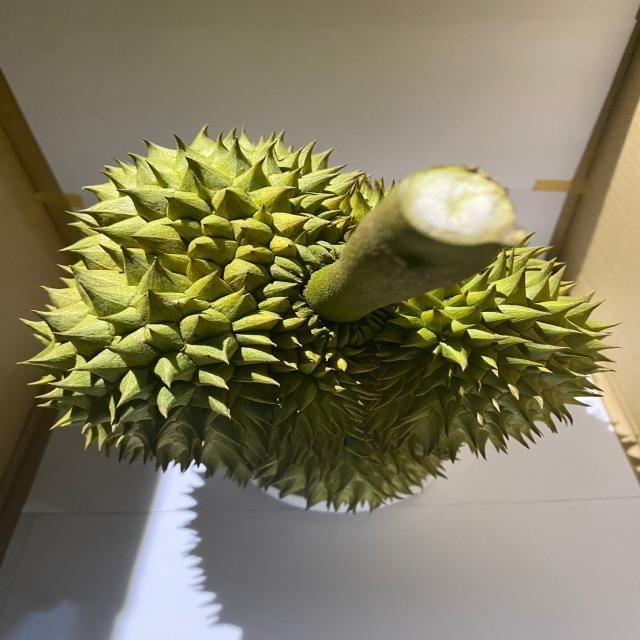immature: (16, 125, 622, 515)
